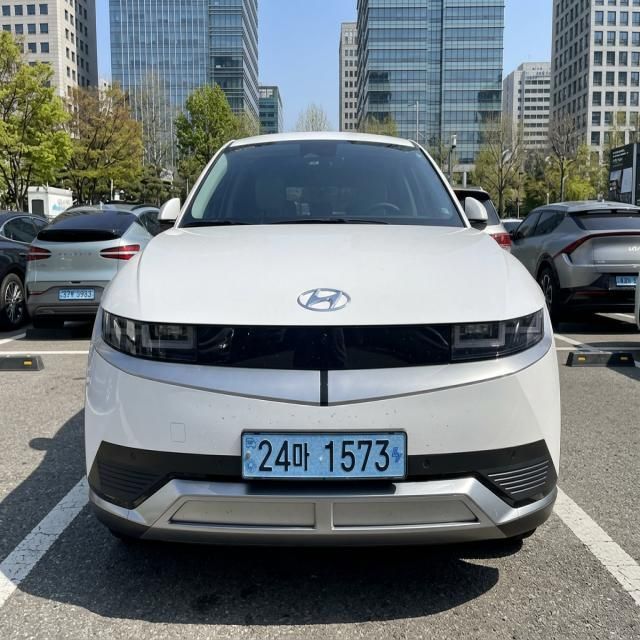car: (222, 411, 427, 501)
carev: (385, 429, 408, 482), (241, 429, 259, 484)
